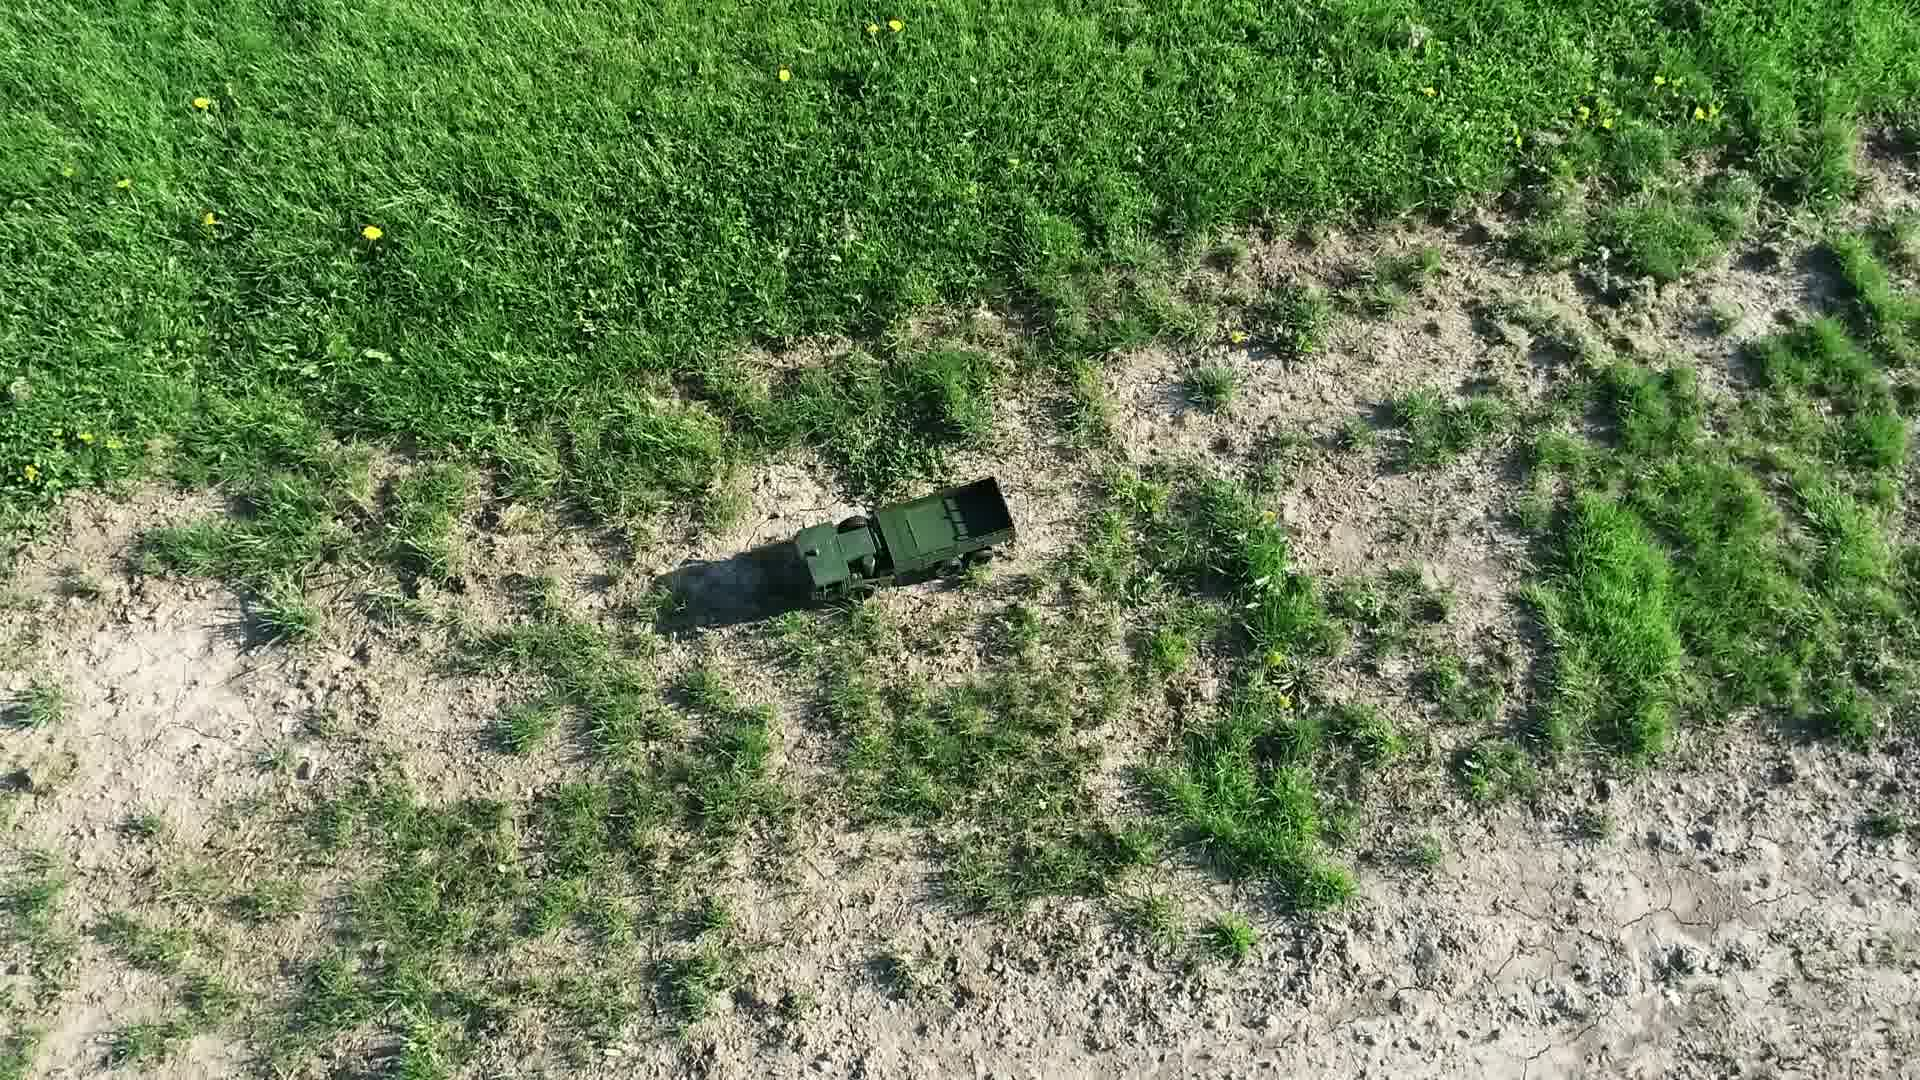transporter9: (783, 469, 1025, 616)
